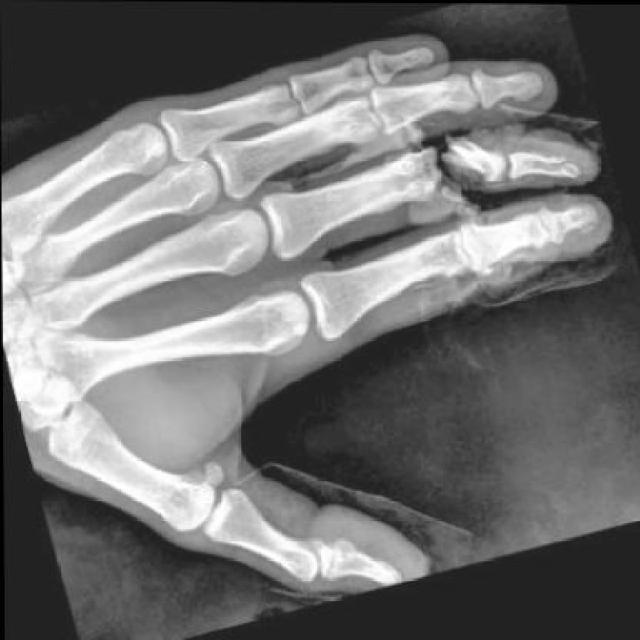Fracture: (403, 132, 498, 207), (526, 142, 585, 195)
